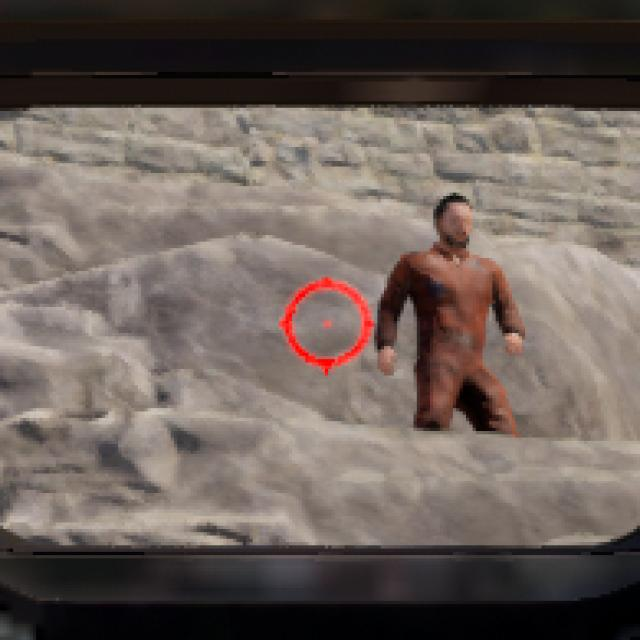Player: (374, 192, 525, 432)
